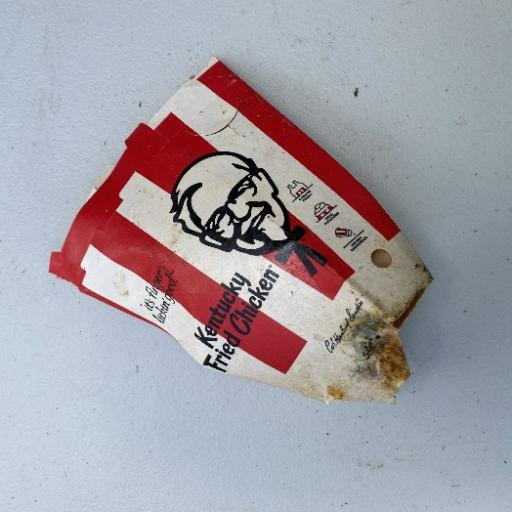Cardboard: (47, 56, 435, 406)
